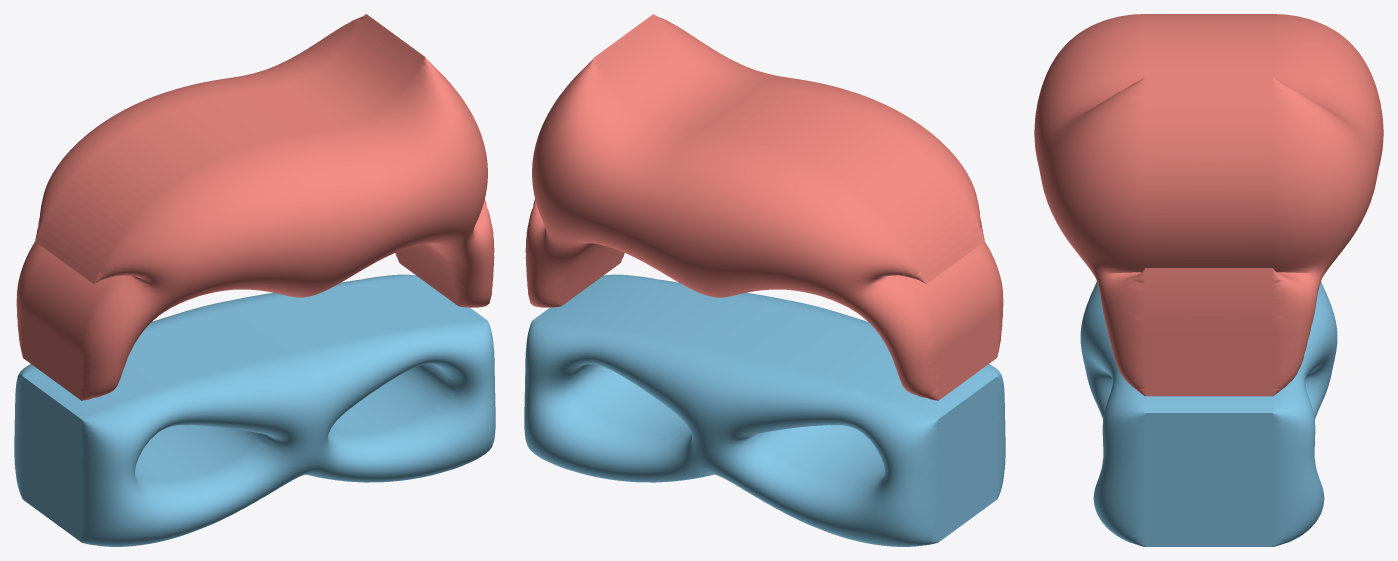
Rendered from sidekick-3d-color.glb.
3 views of the same model, side by side, from view 1: azimuth 30°, elevation 25°; view 2: azimuth 150°, elevation 25°; view 3: azimuth 270°, elevation 25° (orthographic). The views are drawn at different scales.
Visible parts, largest first — view 1: mesh_1, mesh_0; view 2: mesh_1, mesh_0; view 3: mesh_1, mesh_0.
Part boxes in pixels (x1=…): mesh_1: x1=16, y1=14, x2=494, y2=400; mesh_0: x1=14, y1=274, x2=495, y2=546; mesh_1: x1=525, y1=14, x2=1003, y2=400; mesh_0: x1=524, y1=274, x2=1005, y2=546; mesh_1: x1=1034, y1=14, x2=1383, y2=396; mesh_0: x1=1080, y1=281, x2=1337, y2=546.
Bounding box in the file's own units: 0.32 × 0.3108 × 0.2191.
